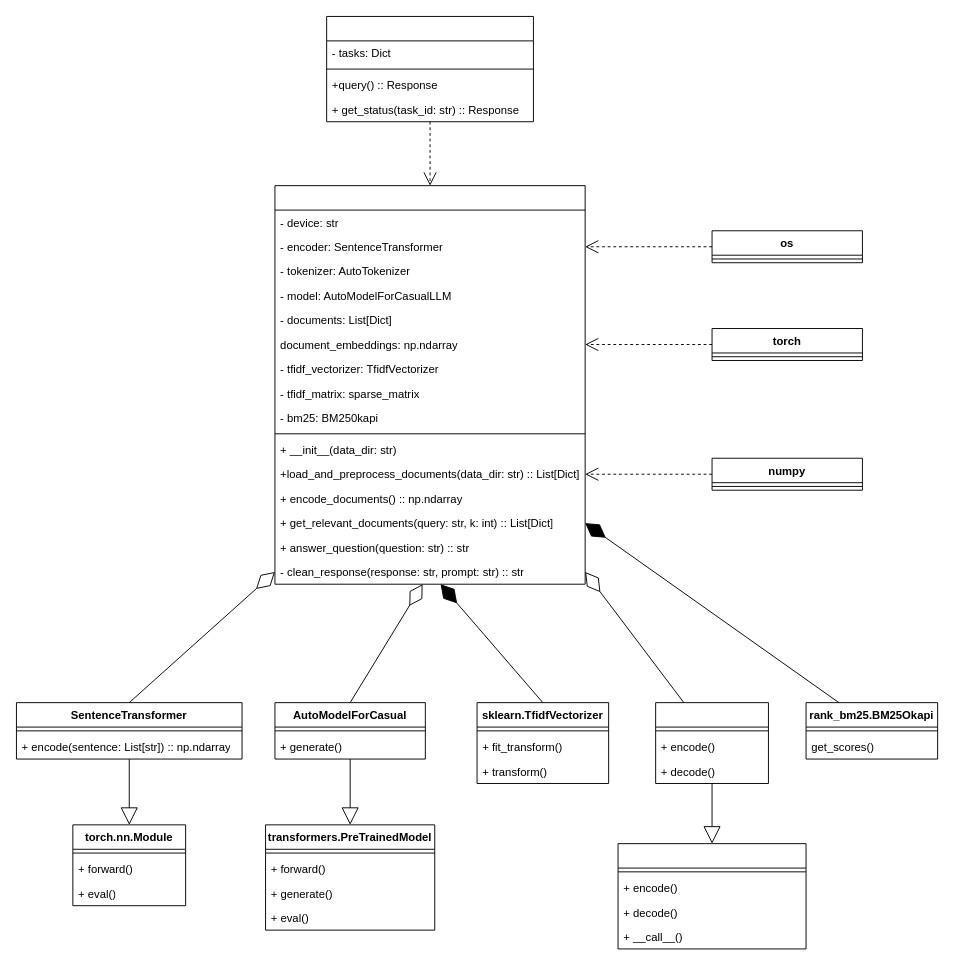
Some shapes in this 954 by 968 pixel diagram are drawn without their labels. The box of each missing label's shape, as (x1, y1, x2, y2) in pixels:
AutoTokenizer: (655, 702, 768, 783)
FlaskApp: (326, 16, 533, 122)
RAG: (274, 185, 585, 584)
transformers.PreTrainedTokenizer: (617, 843, 806, 949)
